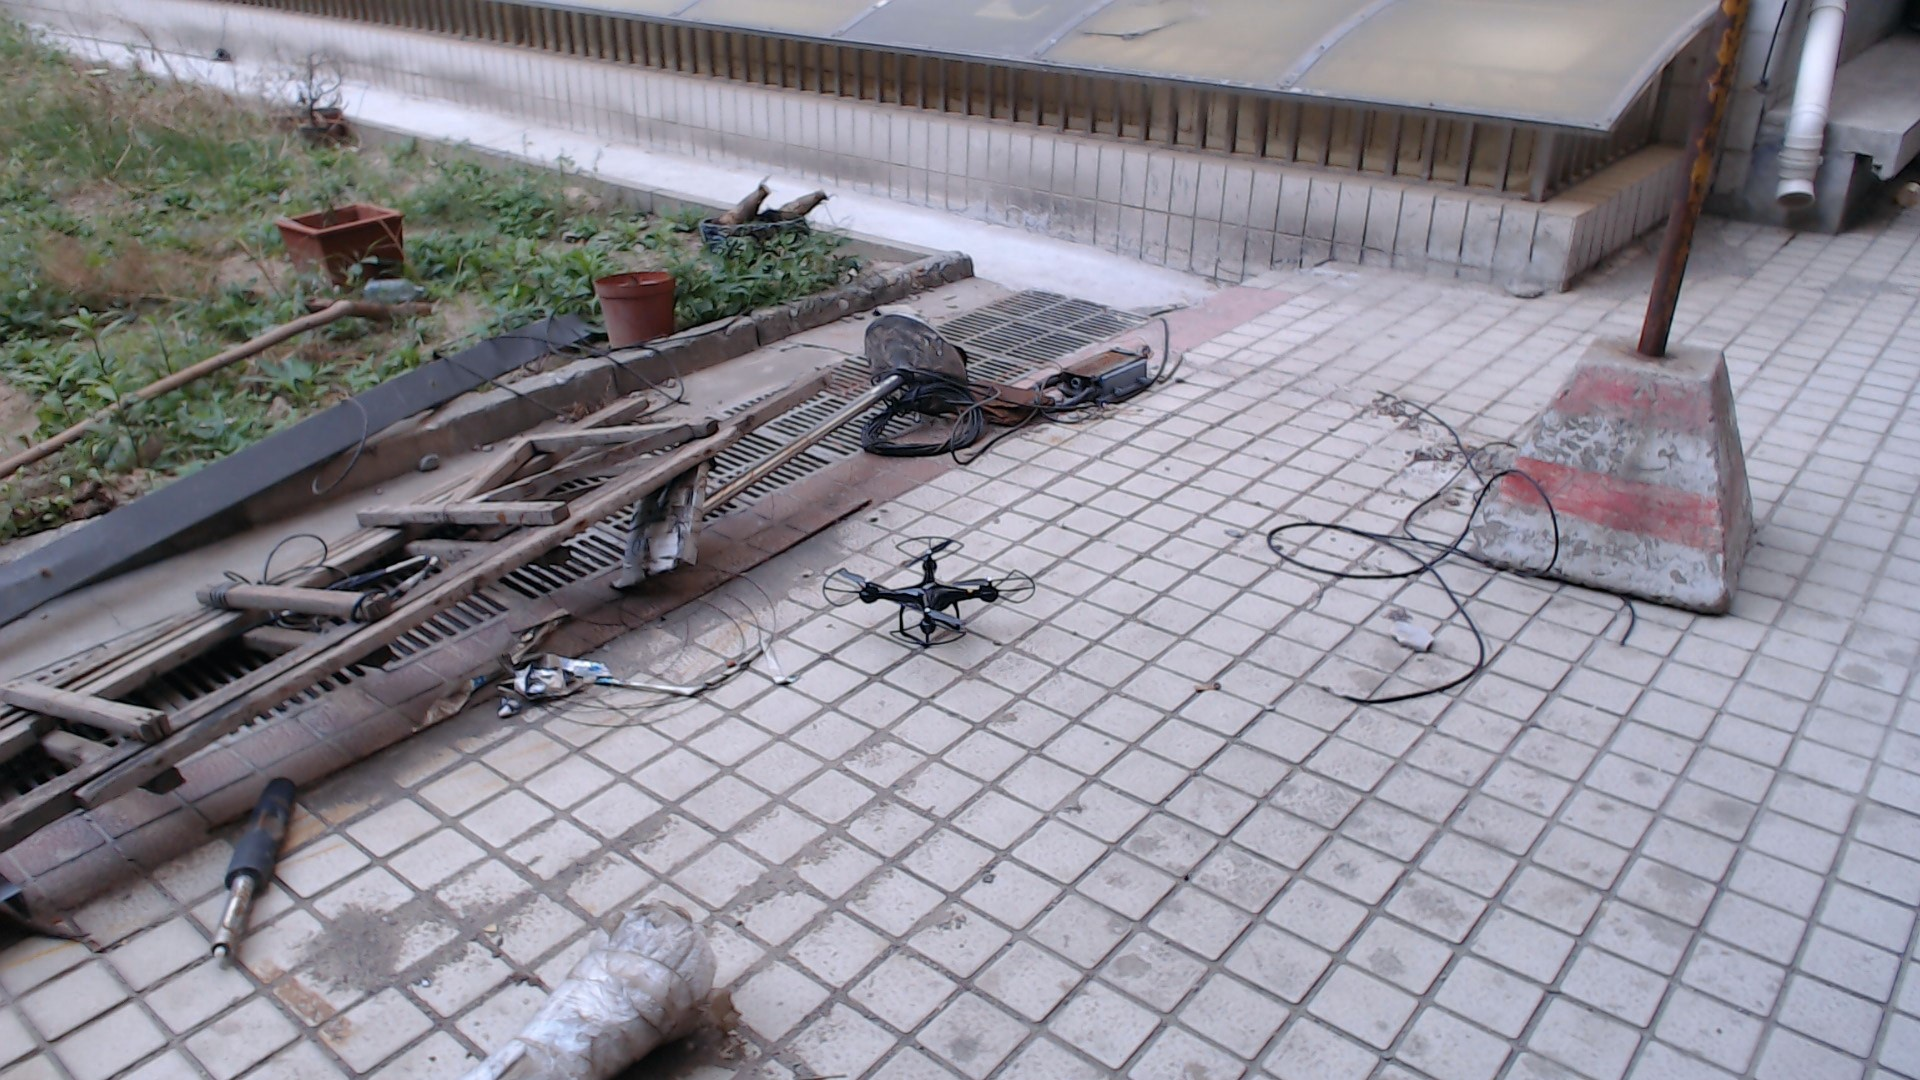drone: (795, 512, 1054, 662)
